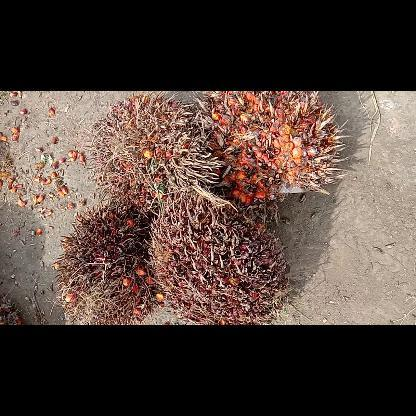Terlalu masak: (144, 192, 288, 324), (83, 90, 220, 212), (209, 90, 352, 206), (53, 202, 163, 324)
